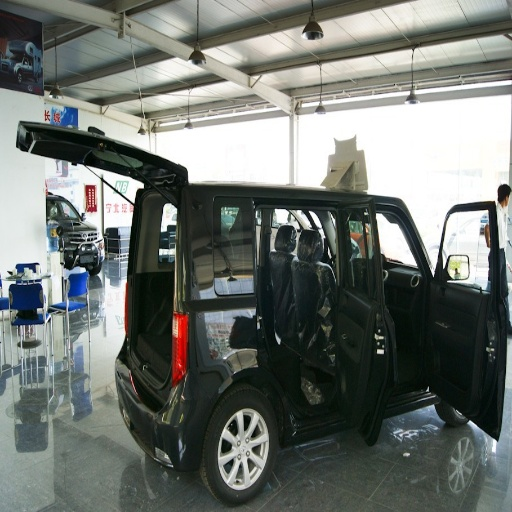back_bumper: (119, 383, 162, 441)
back_right_door: (384, 223, 429, 348)
trunk: (242, 109, 284, 154)
